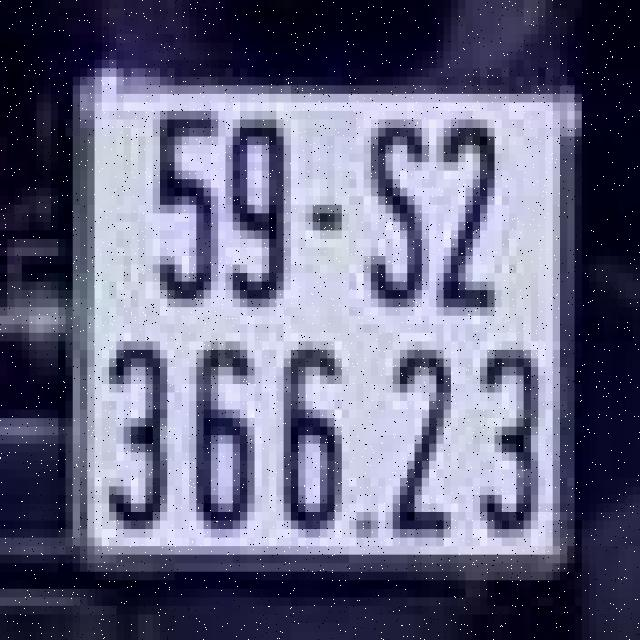2: (389, 341, 462, 546), (433, 111, 505, 316)
3: (473, 337, 545, 550), (102, 337, 174, 533)
5: (149, 98, 222, 303)
6: (189, 332, 269, 538), (276, 333, 349, 546)
9: (222, 94, 294, 316)
S: (364, 107, 429, 303)
